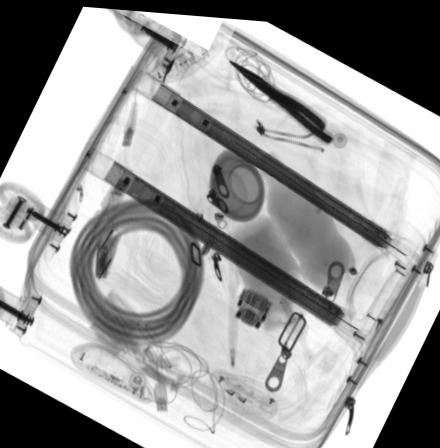Pliers: (227, 52, 333, 136)
